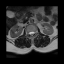CCS_normal: (31, 29, 32, 38)
LFS_normal: (34, 29, 36, 35)
LLS_normal: (32, 29, 34, 36)
RFS_normal: (27, 30, 29, 36)
RLS_normal: (29, 30, 31, 36)
